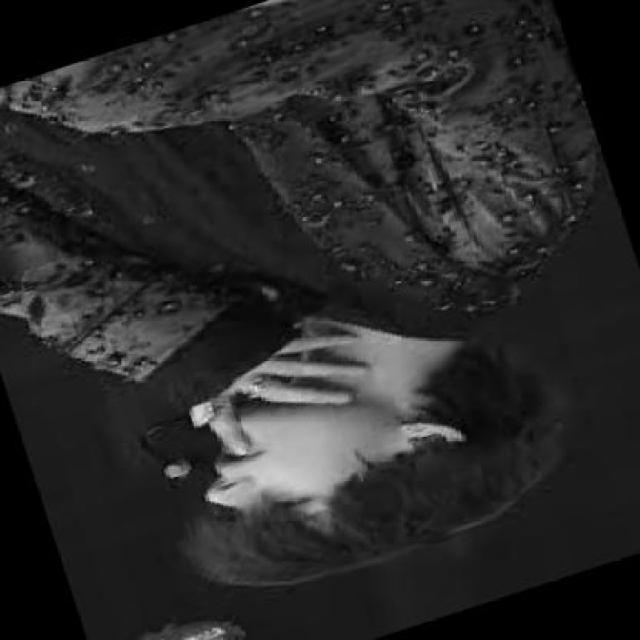earphone: (418, 410, 445, 468)
